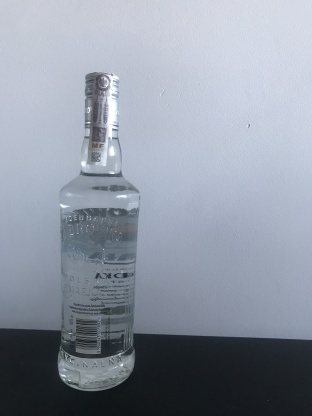nakretka: (82, 69, 121, 133)
